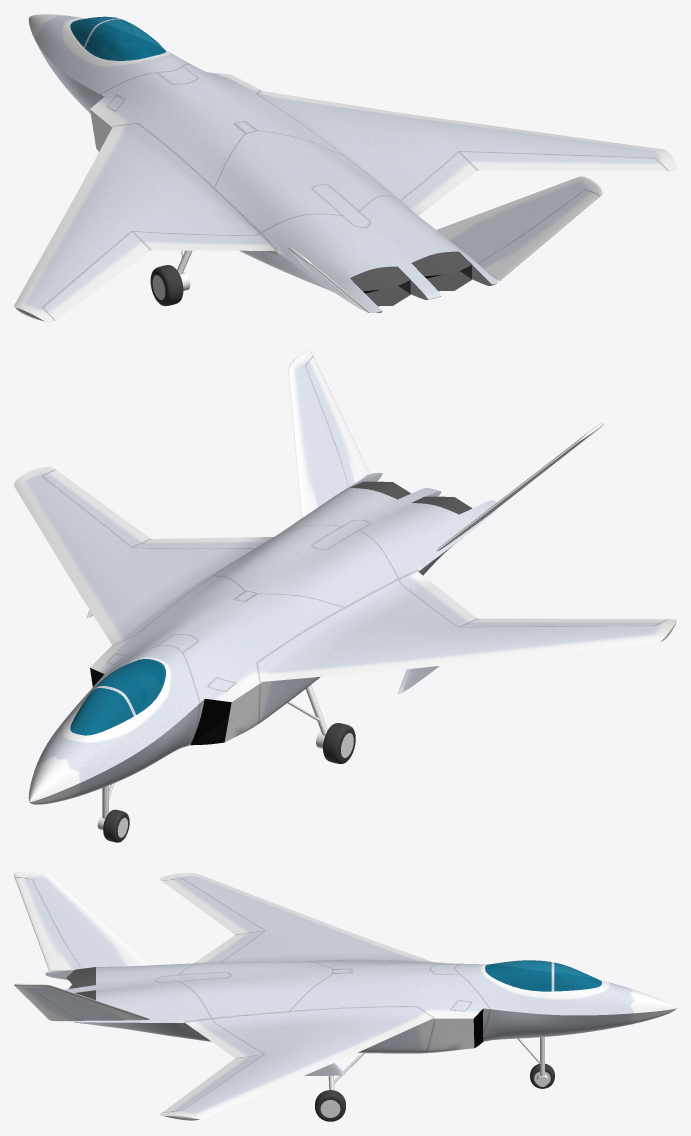
The picture shows the model from 3 angles, top to bottom: view 1: azimuth 30°, elevation 25°; view 2: azimuth 150°, elevation 25°; view 3: azimuth 270°, elevation 25°; orthographic projection. The views are drawn at different scales.
Visible parts, largest first — view 1: Body, elevator-rudder-right, Engine, aileron-right, Canopy1, aileron-left, Wheel Rear Left, elevator-rudder-left; view 2: Body, elevator-rudder-right, Canopy1, aileron-right, aileron-left, Wheel Rear Left, Engine, elevator-rudder-left, Wheel Front; view 3: Body, elevator-rudder-left, Canopy1, elevator-rudder-right, aileron-left, aileron-right, Wheel Rear Right, Engine, Wheel Front.
Part boxes in pixels (bbox=[...]): Body: bbox=[14, 14, 676, 322]; elevator-rudder-right: bbox=[436, 176, 603, 280]; Engine: bbox=[350, 251, 472, 306]; aileron-right: bbox=[459, 151, 667, 171]; Canopy1: bbox=[70, 16, 165, 60]; aileron-left: bbox=[41, 231, 151, 320]; Wheel Rear Left: bbox=[150, 265, 190, 306]; elevator-rudder-left: bbox=[288, 247, 369, 312]; Body: bbox=[14, 467, 676, 804]; elevator-rudder-right: bbox=[288, 351, 369, 517]; Canopy1: bbox=[70, 659, 165, 735]; aileron-right: bbox=[42, 470, 150, 547]; aileron-left: bbox=[459, 618, 667, 626]; Wheel Rear Left: bbox=[316, 723, 355, 763]; Engine: bbox=[350, 481, 472, 514]; elevator-rudder-left: bbox=[436, 423, 603, 551]; Wheel Front: bbox=[97, 809, 129, 842]; Body: bbox=[45, 872, 676, 1120]; elevator-rudder-left: bbox=[14, 871, 147, 970]; Canopy1: bbox=[485, 960, 601, 991]; elevator-rudder-right: bbox=[14, 983, 150, 1020]; aileron-left: bbox=[162, 877, 264, 934]; aileron-right: bbox=[162, 1054, 263, 1112]; Wheel Rear Right: bbox=[315, 1090, 345, 1121]; Engine: bbox=[66, 967, 95, 1023]; Wheel Front: bbox=[530, 1063, 554, 1088].
Bounding box in the file's own units: 15.05 × 4.59 × 17.2.
Materials: 8 (2 with a texture image).
